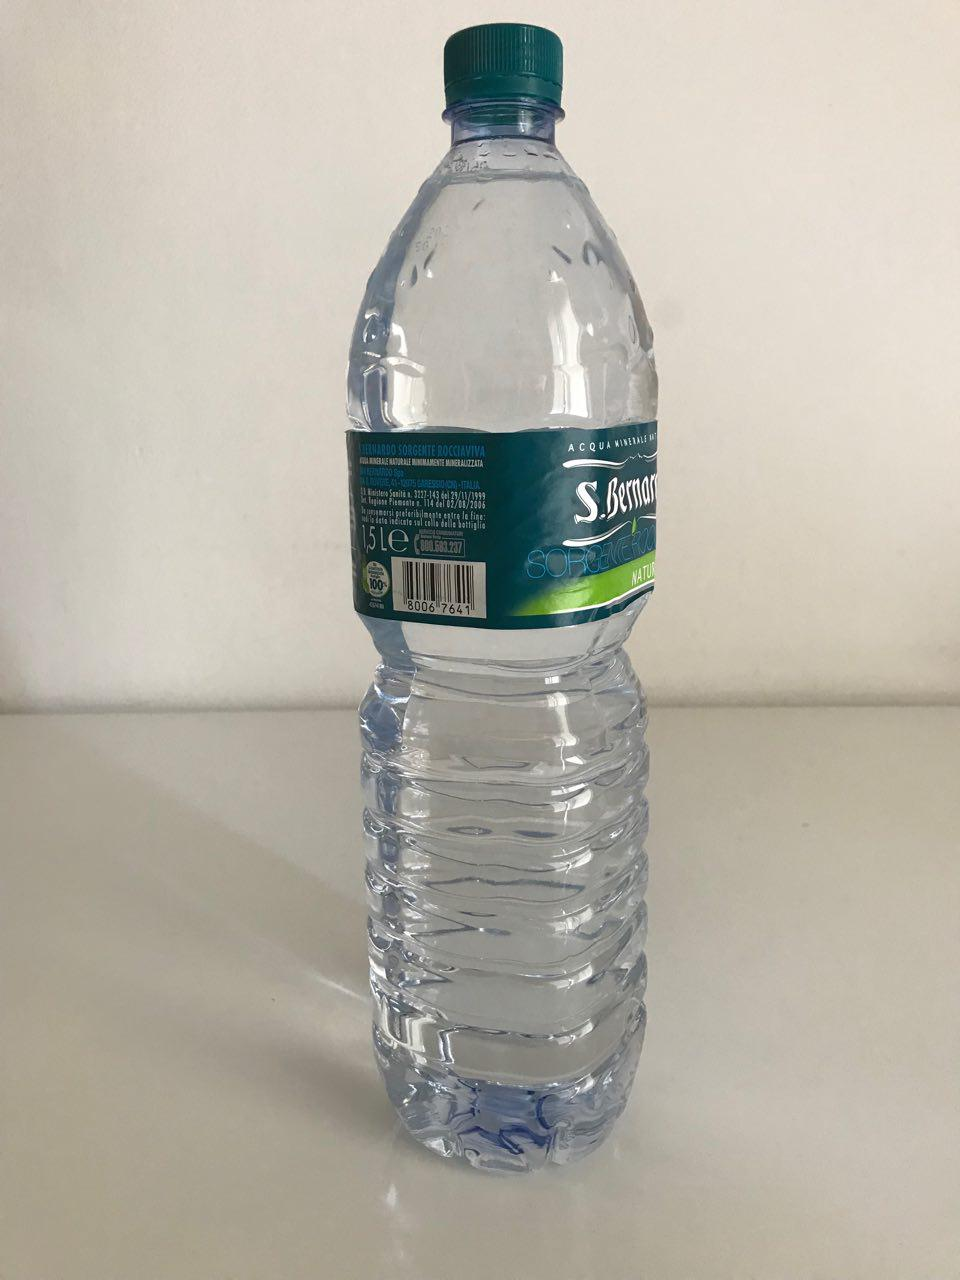san_bernardo: (342, 21, 659, 1177)
